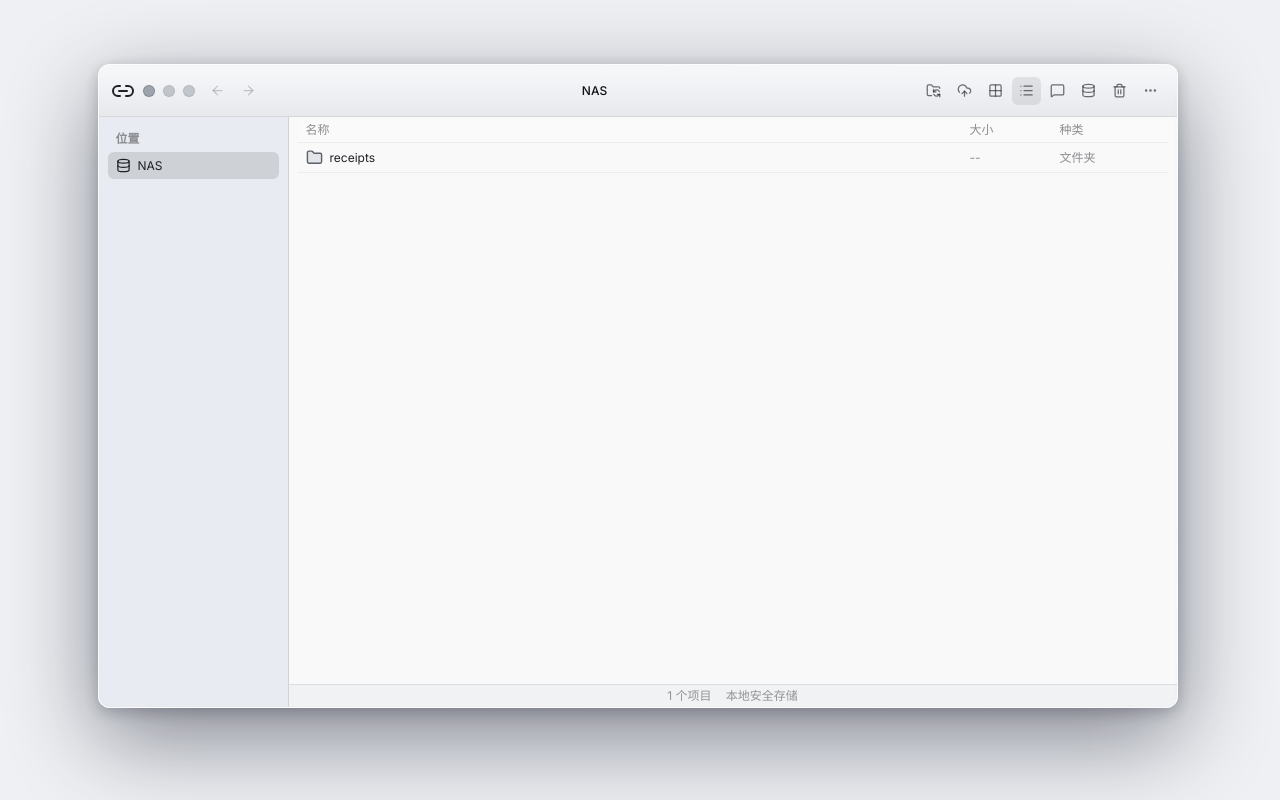
Scenario: FileManager organization entry › previews the selected NAS directory 'receipts' through the real panel and typed API
This screenshot has width=1280, height=800.
Double-click the button "receipts" at coordinates (352, 157), box [306,148,970,166]
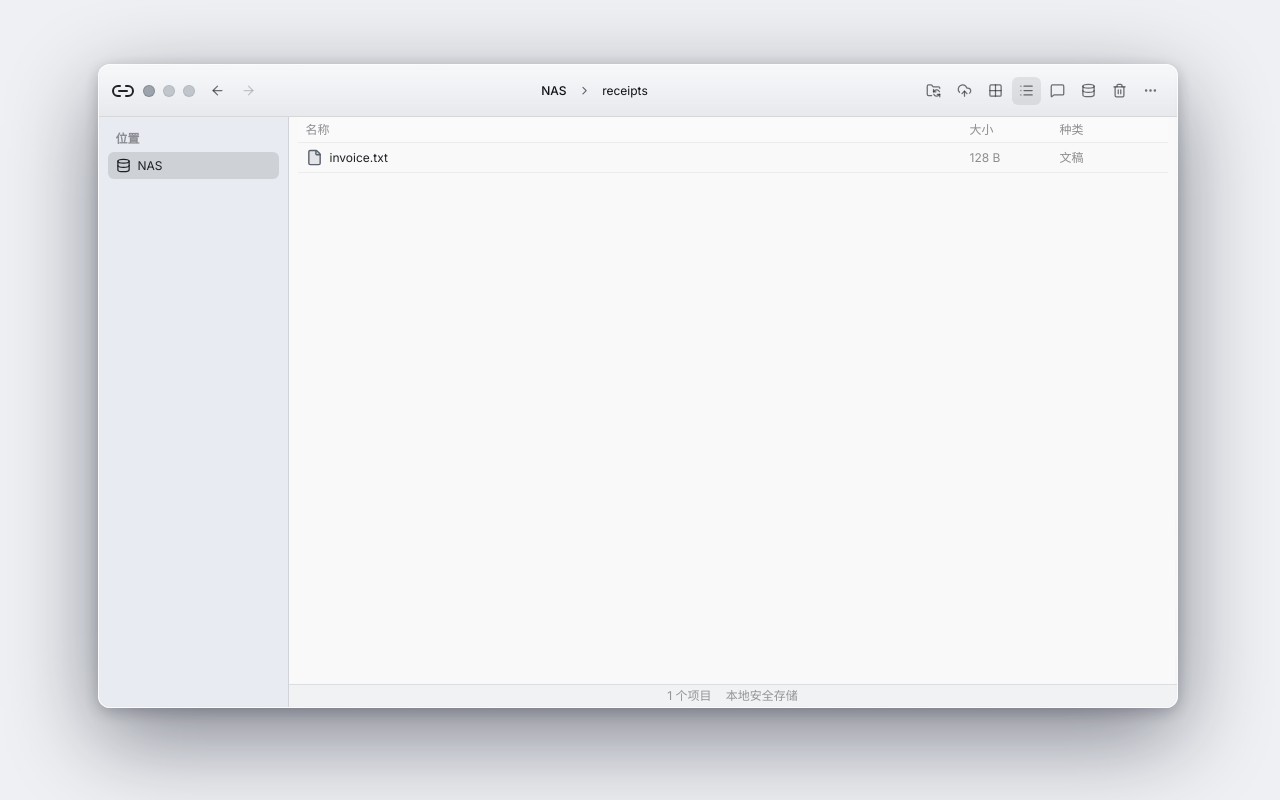
expect the text "invoice.txt" is shown: met, box [330,148,388,166]
Click the button named "整理此目录". click: coordinates (933, 90)
box: [918,76,948,104]
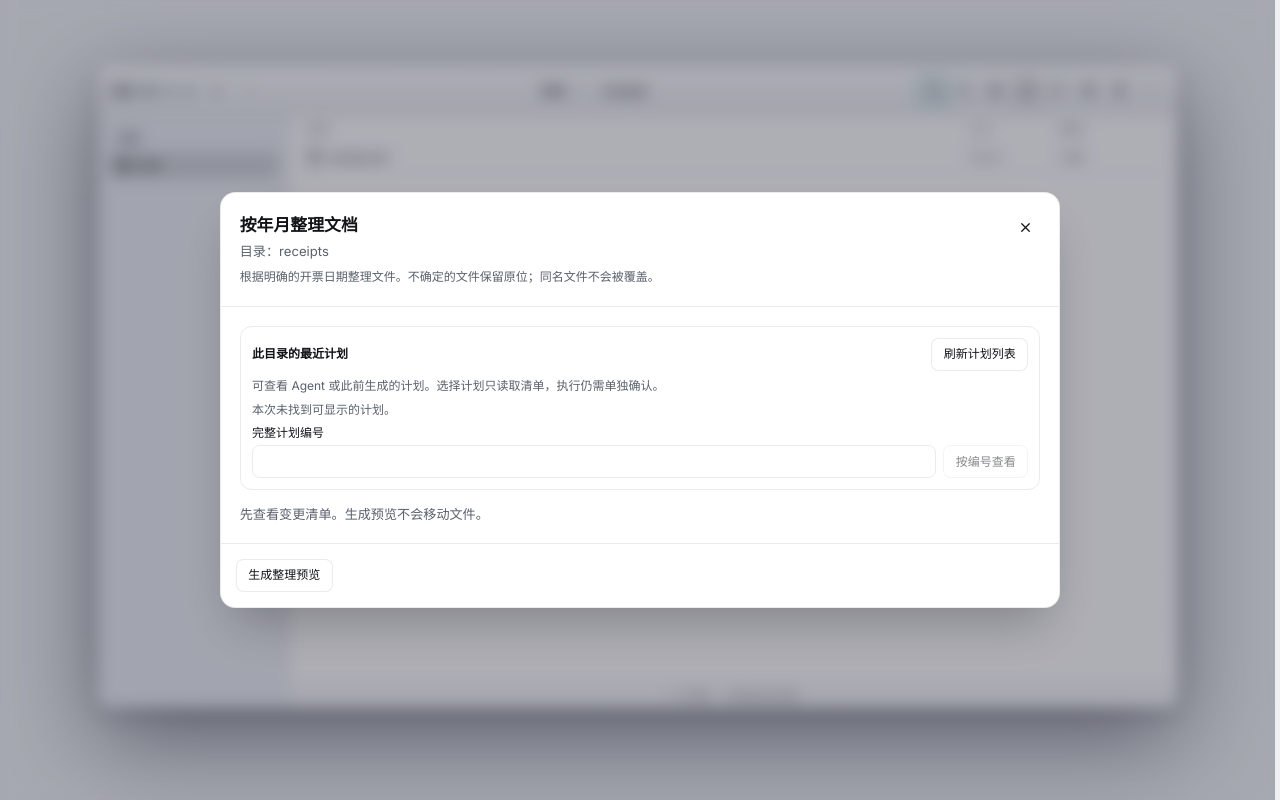
Click the button "生成整理预览". click: coordinates (284, 575)
box: [236,559,332,592]
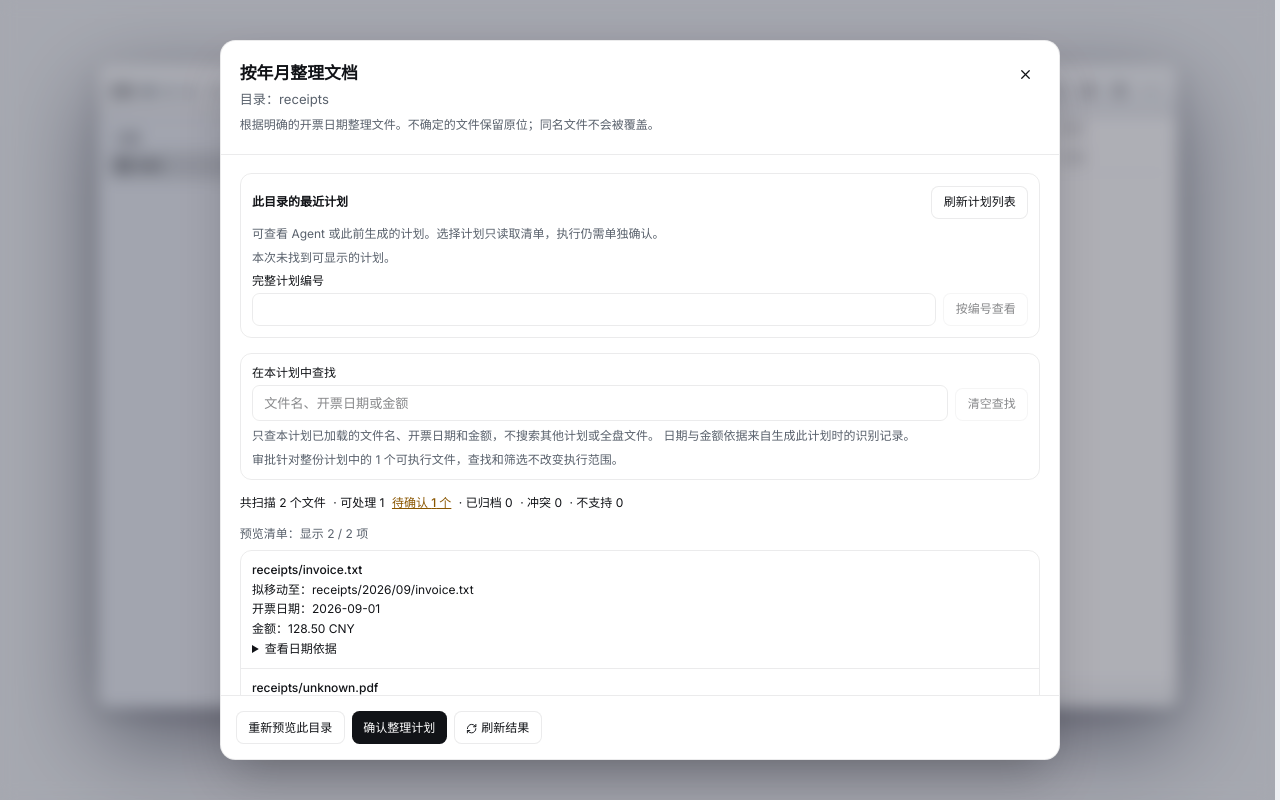
expect the text "拟移动至：receipts/2026/09/invoice.txt" is shown: met, box [252,582,474,596]
Click the button named "关闭整理面板". click: coordinates (1025, 75)
box: [1010,60,1040,90]
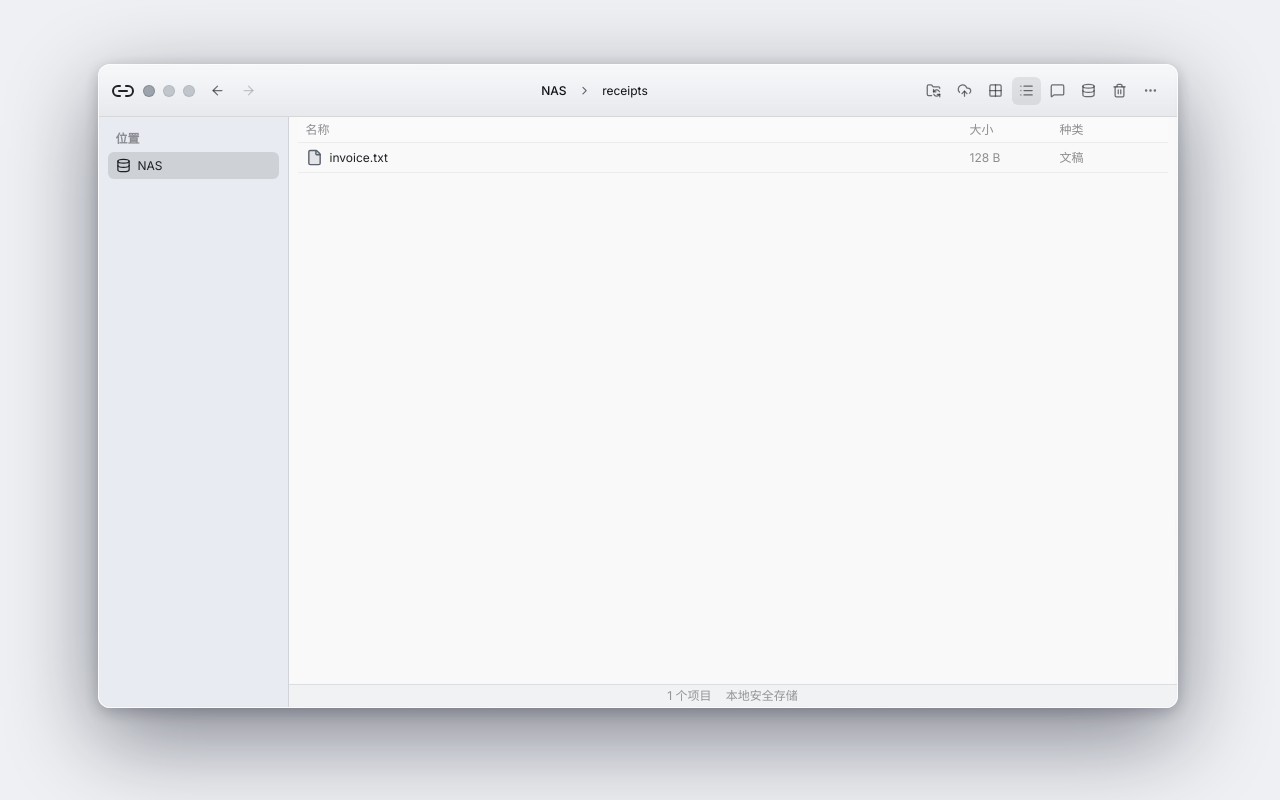
expect the heading "按年月整理文档" is gone: met
